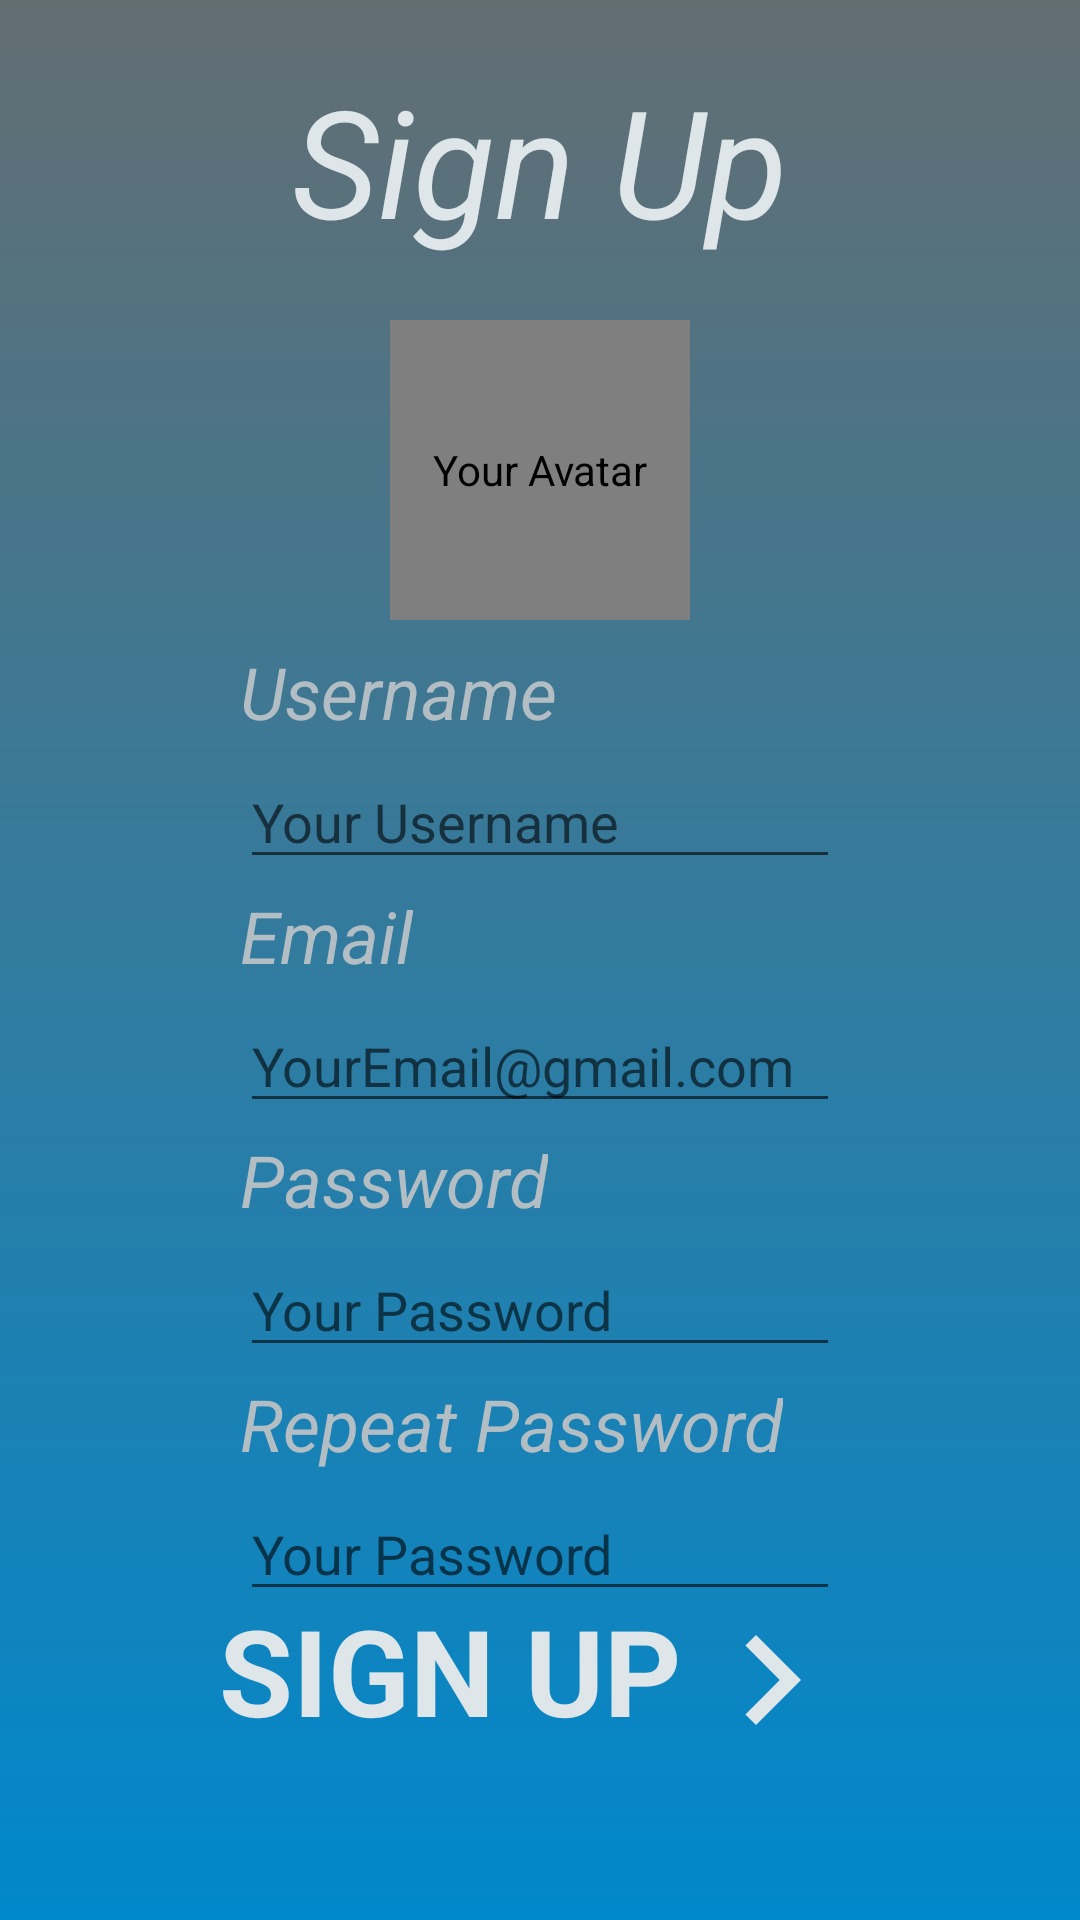

Screen size 1080px x 1920px. Icon name, then its box in pixels as bbox=[x1, y1, x2, y2]:
next: bbox=[745, 1635, 801, 1725]
